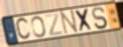C: (15, 16, 32, 43)
N: (60, 9, 79, 36)
O: (30, 15, 48, 39)
S: (91, 6, 109, 31)
X: (74, 7, 95, 33)
Z: (44, 13, 64, 37)
